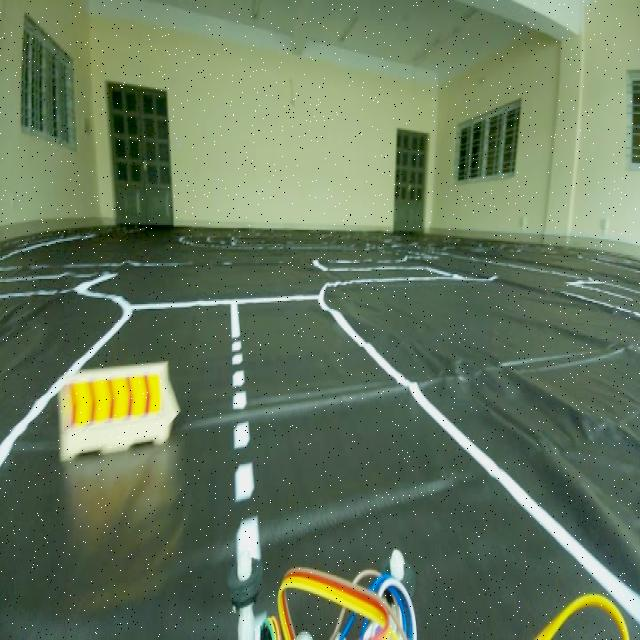roadblock: (46, 377, 183, 453)
